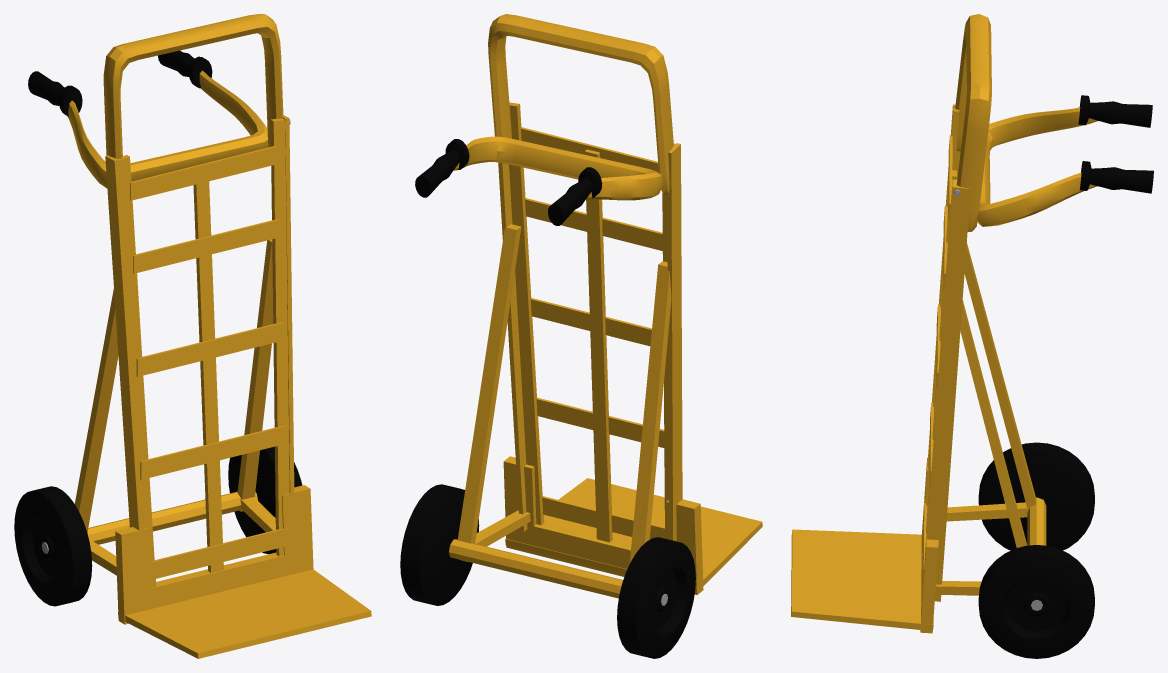
Rendered from Sack_Truck.fbx.
3 views of the same model, side by side, from view 1: azimuth 30°, elevation 25°; view 2: azimuth 150°, elevation 25°; view 3: azimuth 270°, elevation 25° (orthographic). The views are drawn at different scales.
Parts seen in each view (by area): view 1: Sack_Truck; view 2: Sack_Truck; view 3: Sack_Truck.
Part boxes in pixels (x1,y1,x2,y2): Sack_Truck: [14, 14, 371, 658]; Sack_Truck: [400, 14, 762, 658]; Sack_Truck: [791, 14, 1153, 658].
Bounding box in the file's own units: 54.55 × 122 × 72.42.
